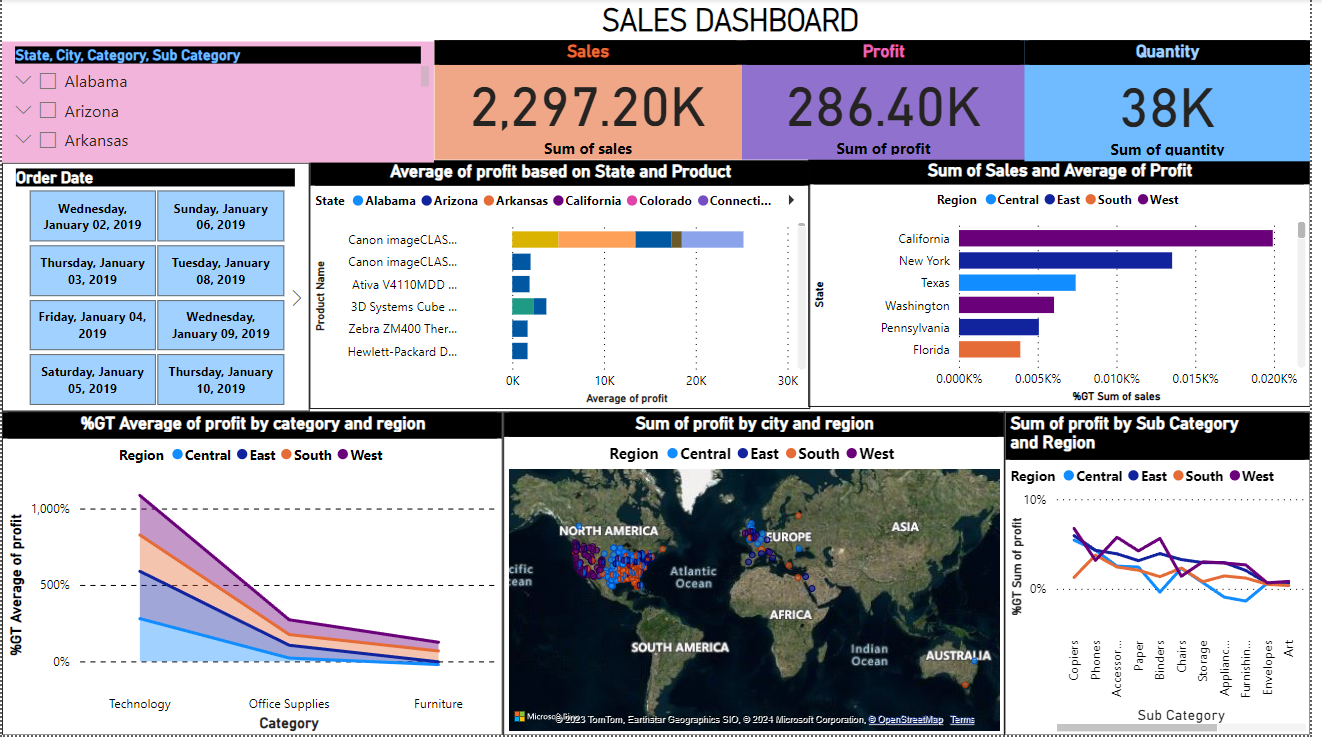

What the dashboard file says about the page in this screenshot:
{"tool":"powerbi","page":{"name":"Page 1","canvas":[1280,720],"ordinal":0},"visuals":[{"type":"hundredPercentStackedBarChart","title":"Sum of Sales and Average of Profit","fields":{"Category":["orders.state"],"Y":["Sum(orders.sales)"],"Series":["orders.region"]},"box":[788.7,156.8,490.9,242.4],"z":0},{"type":"hundredPercentStackedBarChart","title":"Average of profit based on State and Product","fields":{"Category":["orders.product_name"],"Y":["Avg(orders.profit)"],"Series":["orders.state"]},"box":[300.5,157.8,489.9,242.9],"z":1},{"type":"slicer","fields":{"Values":["orders.order_date"]},"box":[0,160.5,300.5,242.9],"z":2},{"type":"slicer","fields":{"Values":["orders.state","orders.city","orders.category","orders.sub_category"]},"box":[0,41.2,422.6,118],"z":3},{"type":"card","title":"Sales","fields":{"Values":["Sum(orders.sales)"]},"box":[422.6,39.8,300.5,116.6],"z":4},{"type":"card","title":"Profit","fields":{"Values":["Sum(orders.profit)"]},"box":[723.2,39.8,277.2,116.6],"z":5},{"type":"card","title":"Quantity","fields":{"Values":["Sum(orders.quantity)"]},"box":[1000.3,39.8,279.9,118],"z":6},{"type":"stackedAreaChart","fields":{"Category":["orders.category"],"Y":["Sum(orders.profit)"],"Series":["orders.region"]},"box":[0,402.8,489.6,317.2],"z":7},{"type":"map","fields":{"Category":["orders.city"],"Series":["orders.region"]},"box":[490,403,490,317],"z":8},{"type":"lineChart","title":"Sum of profit by Sub Category and Region","fields":{"Category":["orders.sub_category"],"Y":["Sum(orders.profit)"],"Series":["orders.region"]},"box":[980.5,402.8,299.1,317.2],"z":9},{"type":"shape","box":[562,0,300.3,39.8],"z":10}]}

Visuals, with their boxes in screenshot pixels (x1, y1, x2, y2), scaled from the page's 1280x720 canvas onto the 1322x741 screenshot:
"Sum of Sales and Average of Profit" hundredPercentStackedBarChart: (815,161,1321,411)
"Average of profit based on State and Product" hundredPercentStackedBarChart: (310,162,816,412)
slicer - orders.order_date: (0,165,310,415)
slicer - orders.state x orders.city: (0,42,436,164)
"Sales" card: (436,41,747,161)
"Profit" card: (747,41,1033,161)
"Quantity" card: (1033,41,1321,162)
stackedAreaChart - orders.category x Sum(orders.profit): (0,415,506,740)
map - orders.city x orders.region: (506,415,1012,740)
"Sum of profit by Sub Category and Region" lineChart: (1013,415,1321,740)
shape: (580,0,891,41)
